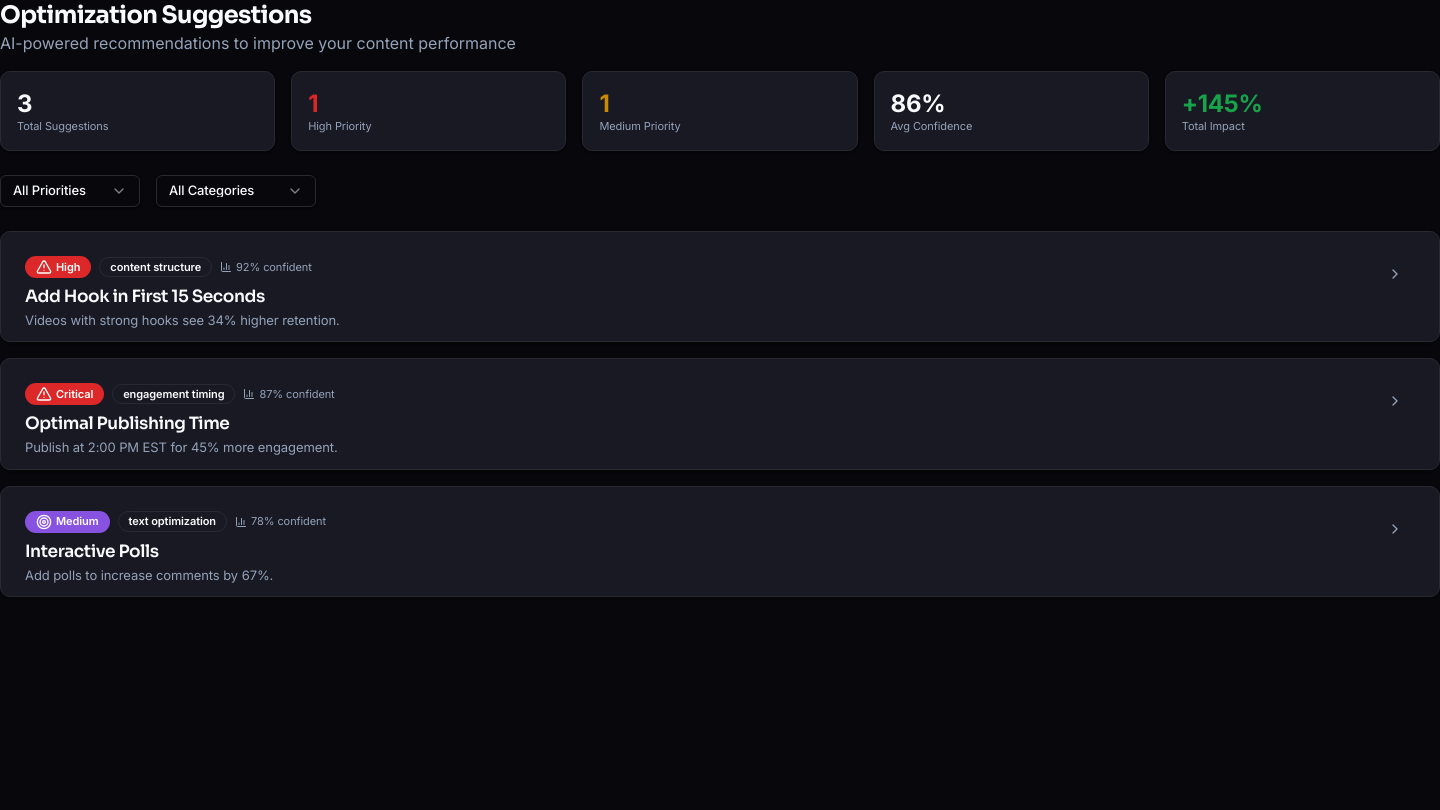
Scenario: OptimizationSuggestionPanel › A/B Testing Features › does not show A/B testing section when not recommended
The image size is (1440, 810).
Click the button without text in the row of "87": {"x": 1395, "y": 401} top-left (1375, 383), bottom-right (1415, 419)
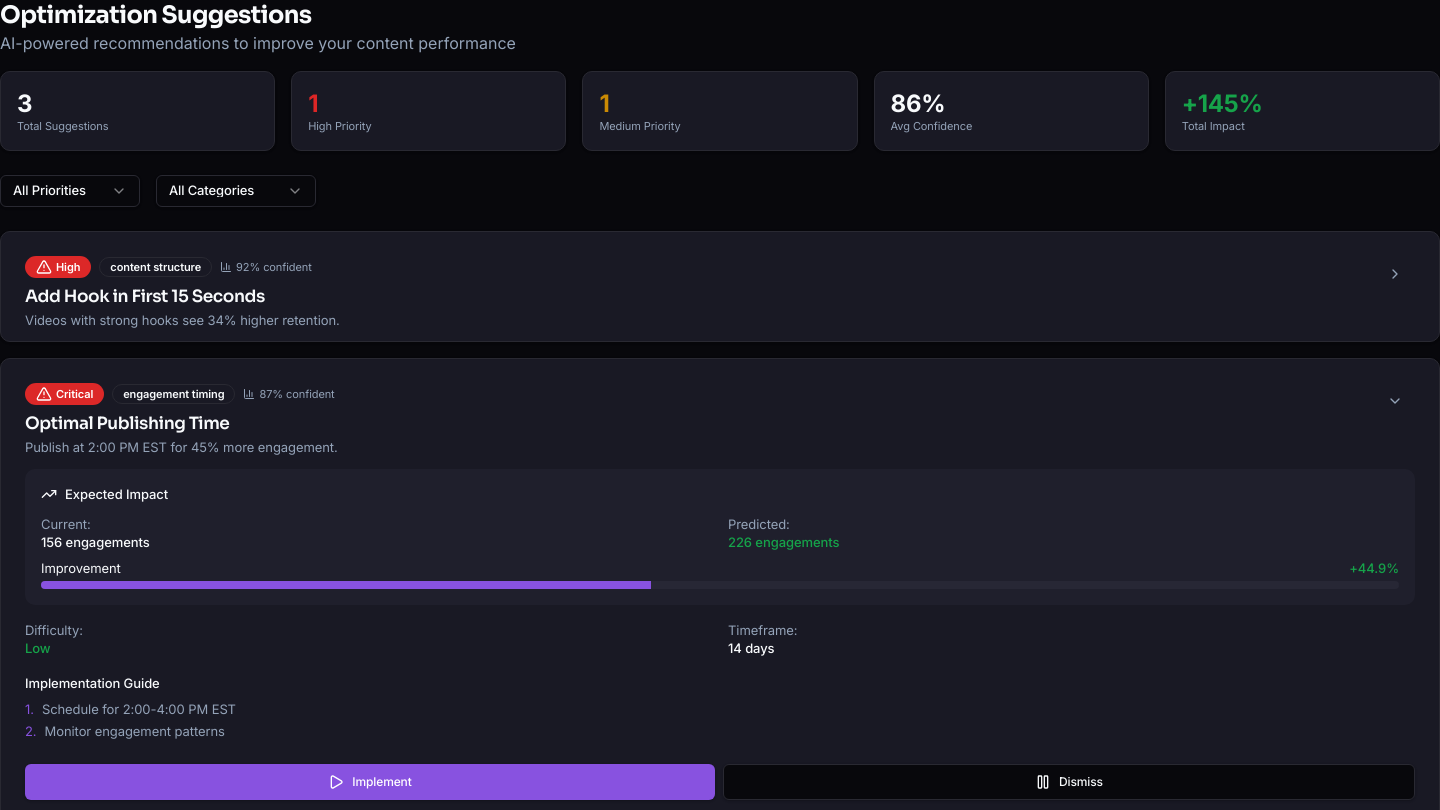
Check: the heading "Expected Impact" is shown, box top-left (41, 486), bottom-right (168, 502)
